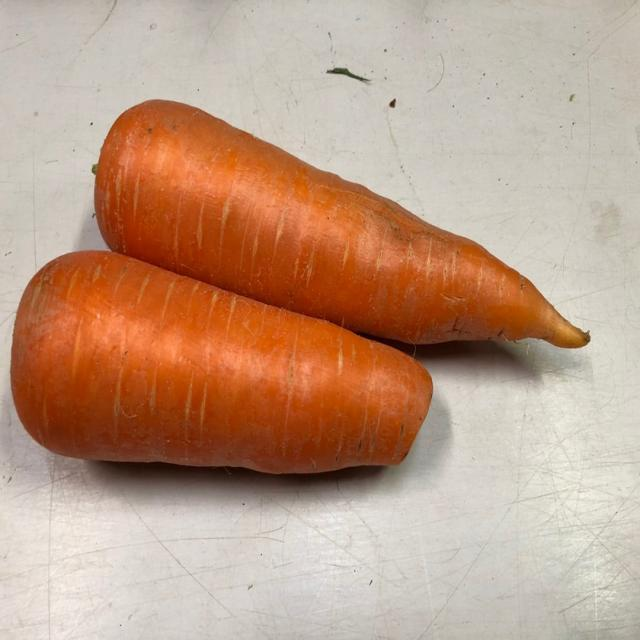Carrot: (91, 95, 594, 350), (13, 248, 438, 480)
